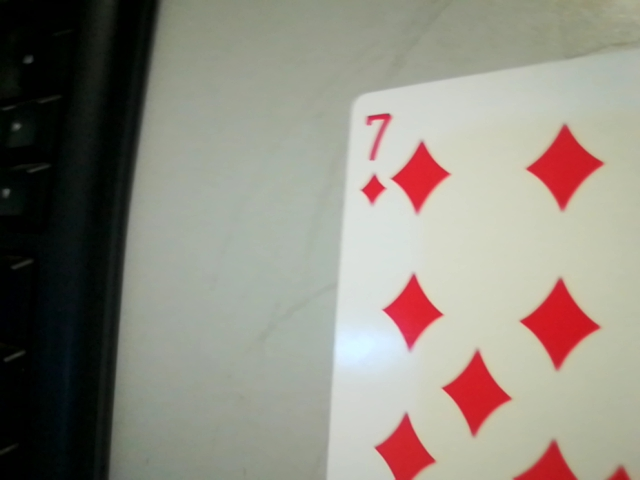fk 7: (346, 104, 401, 212)
